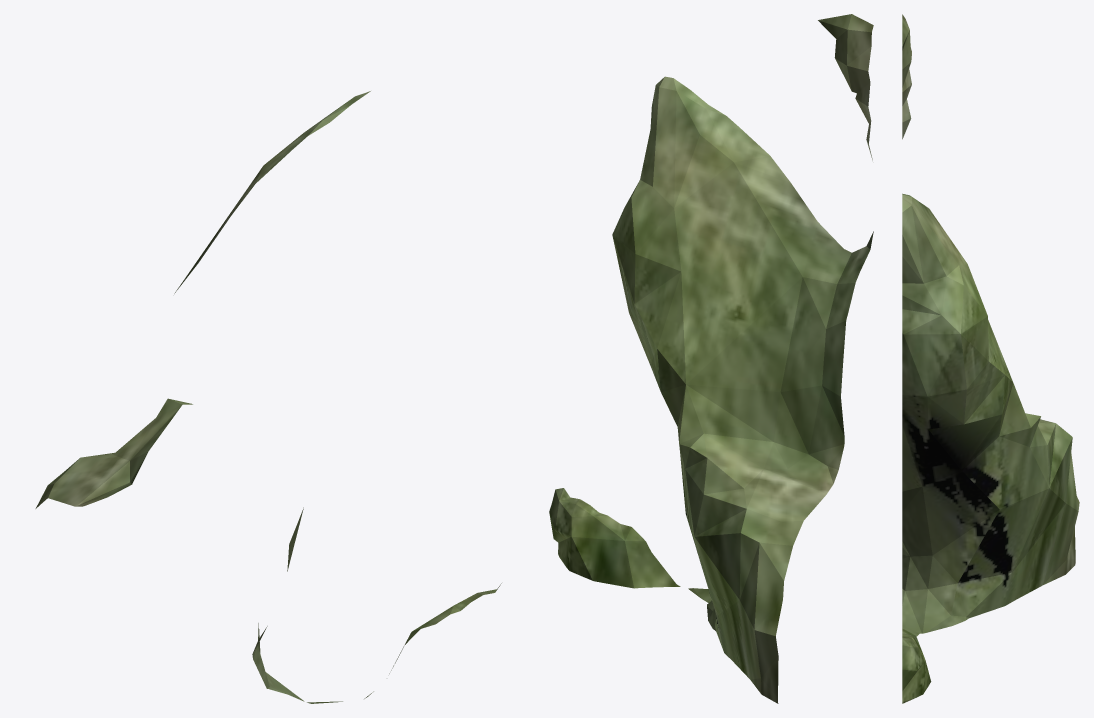
The picture shows the model from 3 angles, left to right: view 1: azimuth 30°, elevation 25°; view 2: azimuth 150°, elevation 25°; view 3: azimuth 270°, elevation 25°; orthographic projection. The views are drawn at different scales.
Size of the model in its own units: 1.48 by 2.68 by 0.7744.
1 material, 1 textured.
